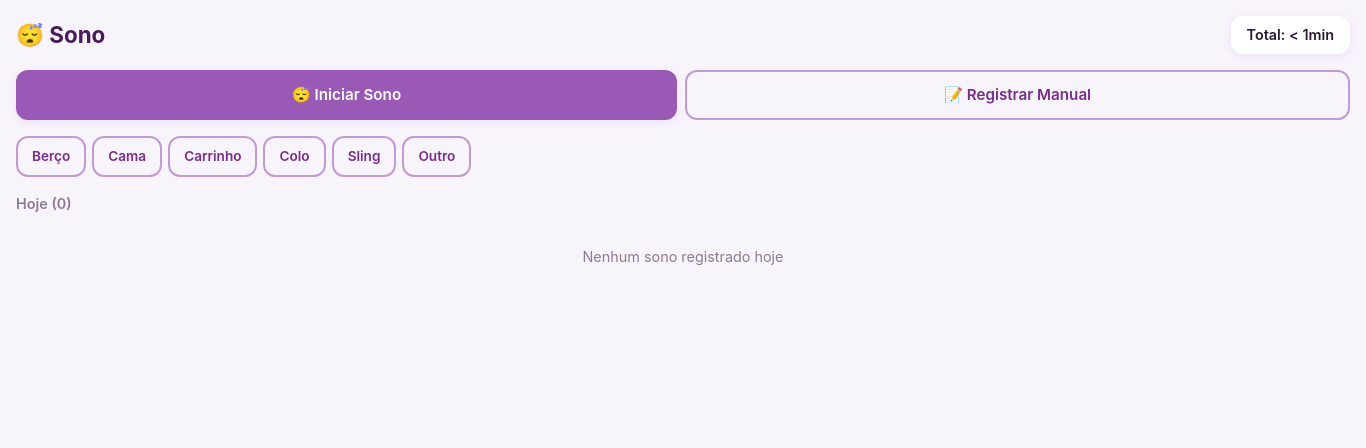
Test: Sleep › shows manual entry form
This screenshot has width=1366, height=448.
Click the button "📝 Registrar Manual" at (1018, 95), box [685,70,1350,120]
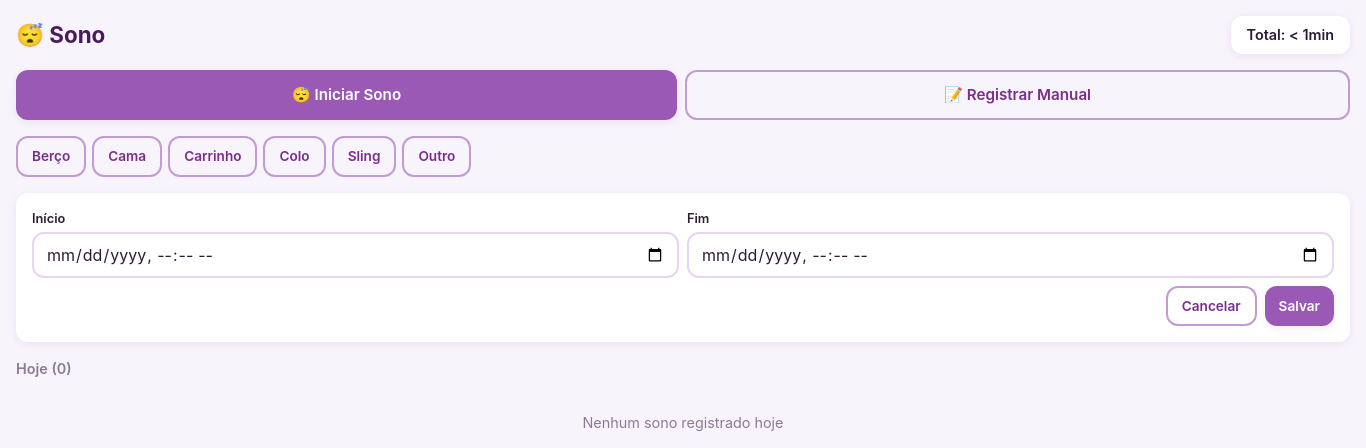
Expected: the text "Início" is shown, [32,211,65,226]
Expected: the text "Fim" is shown, [687,211,709,226]
